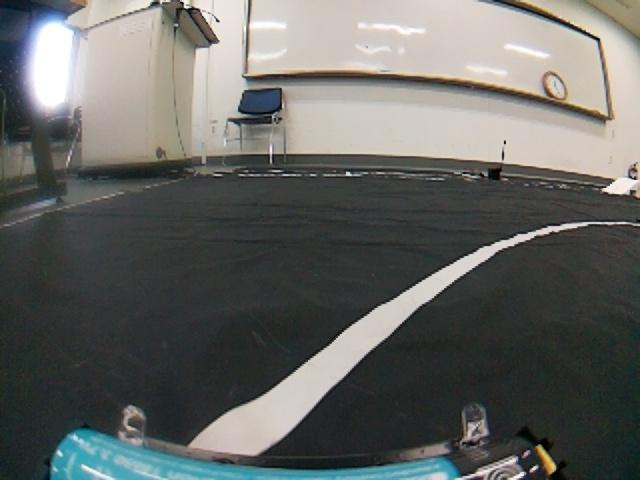right: (0, 207, 640, 480)
